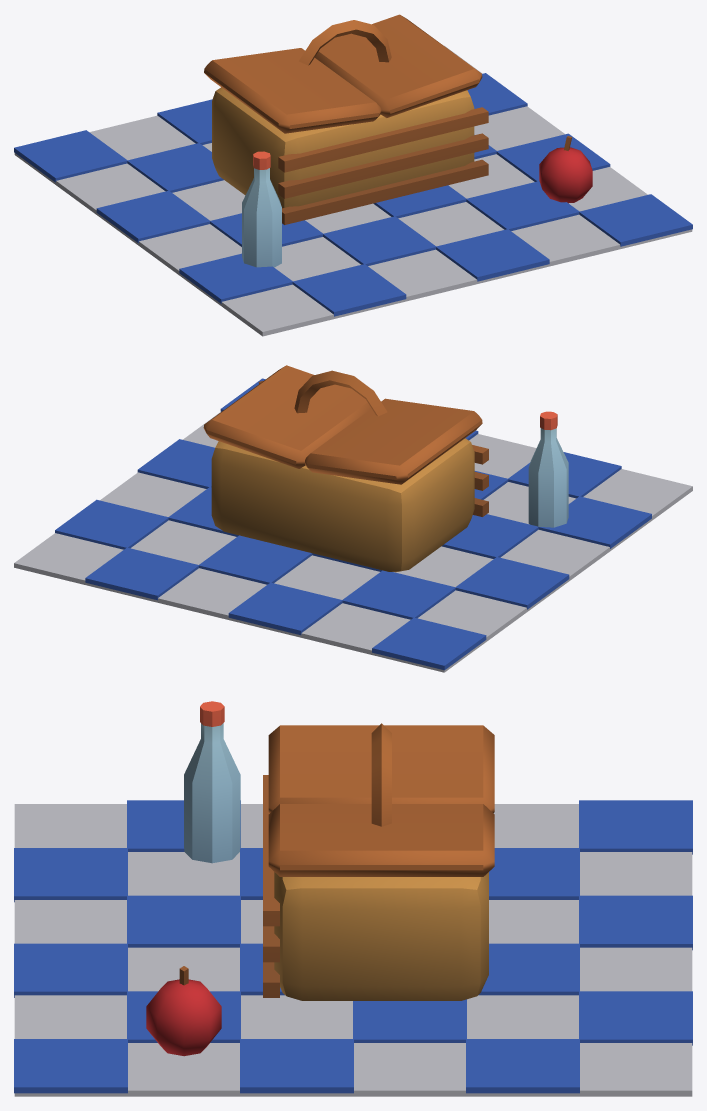
Rendered from hz_picnic.glb.
The picture shows the model from 3 angles, top to bottom: view 1: azimuth 30°, elevation 25°; view 2: azimuth 150°, elevation 25°; view 3: azimuth 270°, elevation 25°; orthographic projection. The views are drawn at different scales.
Parts seen in each view (by area): view 1: hz_picnic; view 2: hz_picnic; view 3: hz_picnic.
Part boxes in pixels (x1=…): hz_picnic: x1=14, y1=14, x2=692, y2=336; hz_picnic: x1=14, y1=365, x2=692, y2=672; hz_picnic: x1=14, y1=701, x2=692, y2=1096.
Size of the model in its own units: 1.2 by 0.4355 by 1.2.
